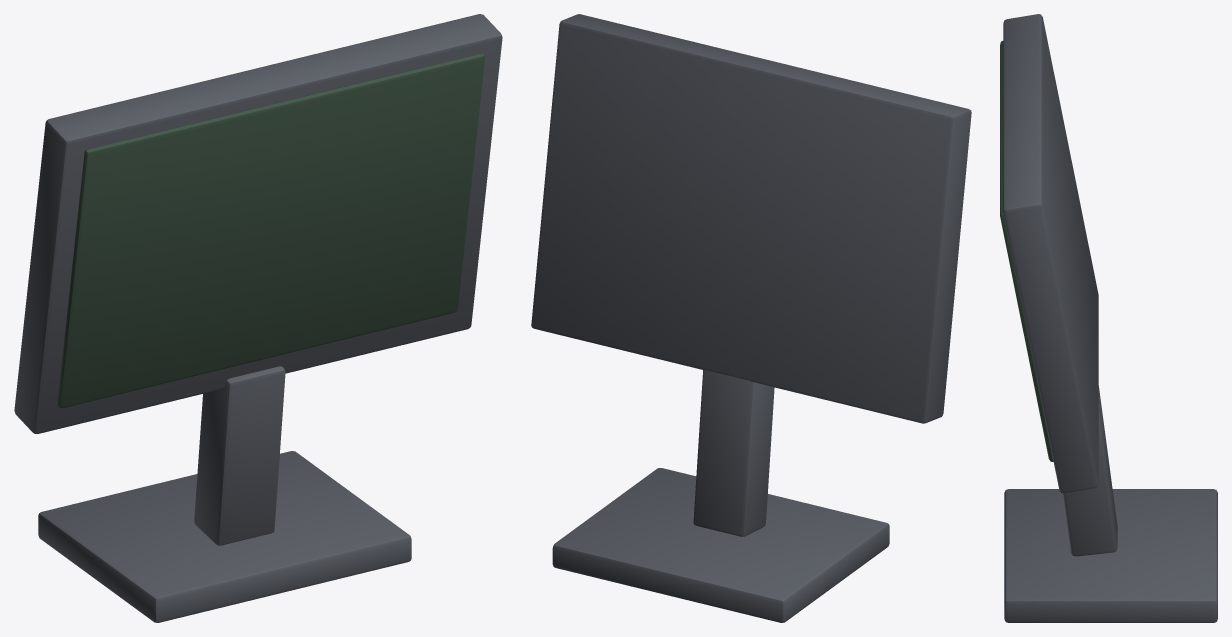
The model's file is register.glb.
3 renders of one model, left to right at view 1: azimuth 30°, elevation 25°; view 2: azimuth 150°, elevation 25°; view 3: azimuth 270°, elevation 25°, orthographic. The views are drawn at different scales.
Parts seen in each view (by area): view 1: register; view 2: register; view 3: register.
Boxes of the visible parts, x1=… form: register: x1=14, y1=14, x2=502, y2=622; register: x1=531, y1=14, x2=971, y2=622; register: x1=1000, y1=14, x2=1217, y2=622.
Size of the model in its own units: 0.34 by 0.3802 by 0.1632.
